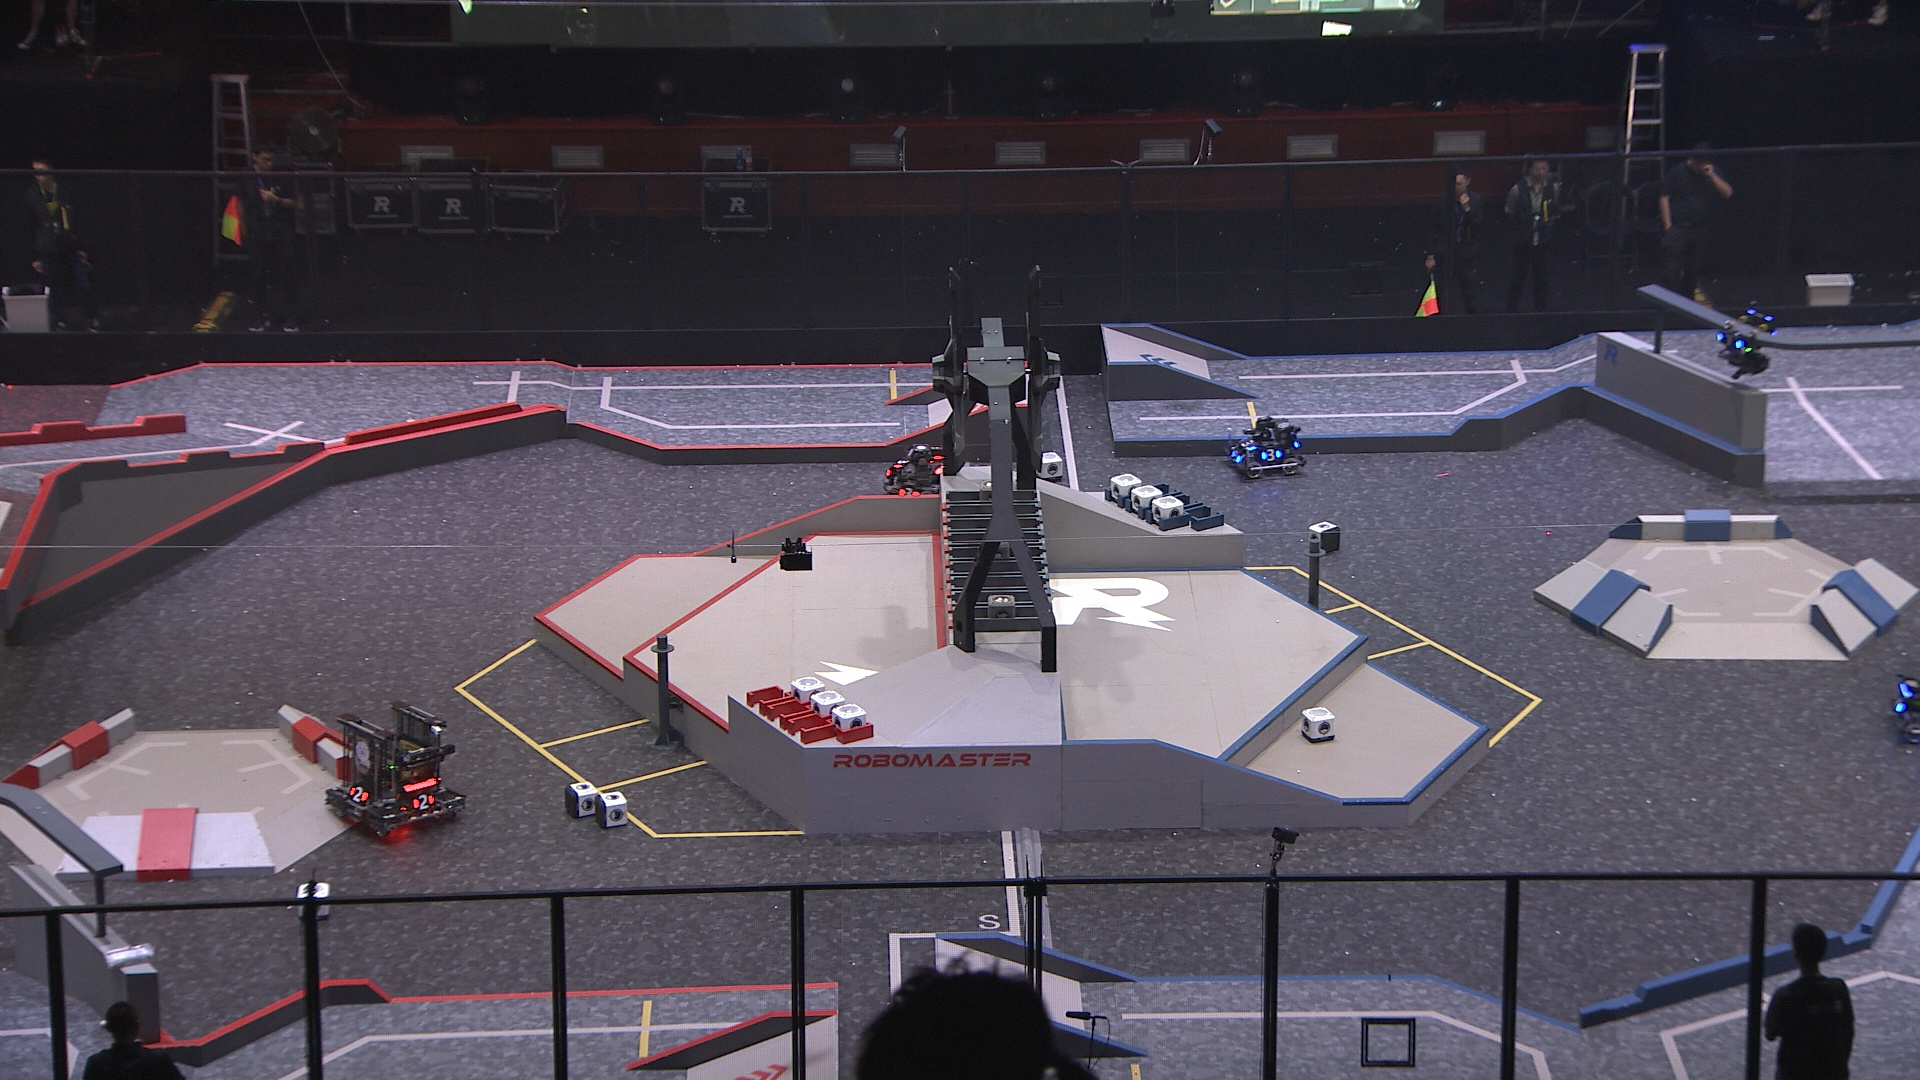armor: (1716, 330, 1746, 351), (409, 793, 436, 814), (347, 783, 371, 806), (1259, 446, 1283, 463), (1229, 444, 1247, 465), (895, 484, 920, 498), (1894, 690, 1908, 713), (1238, 436, 1257, 454), (891, 455, 911, 471)
car: (323, 698, 473, 840), (1221, 413, 1309, 480), (880, 442, 956, 510), (1888, 669, 1920, 749)
watcher: (1709, 294, 1779, 381)
